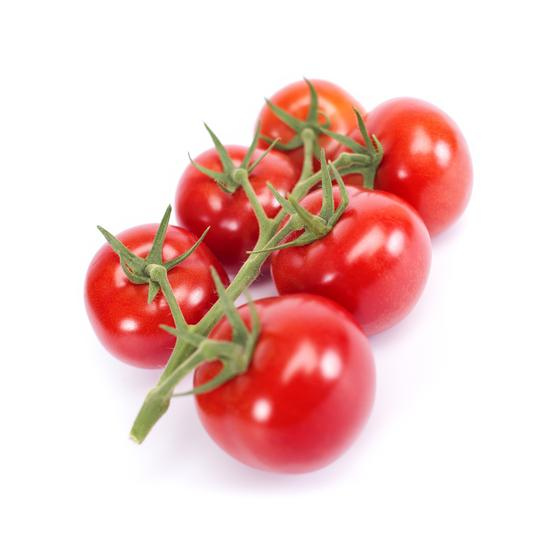tomato: (194, 296, 379, 475), (80, 220, 225, 370)
